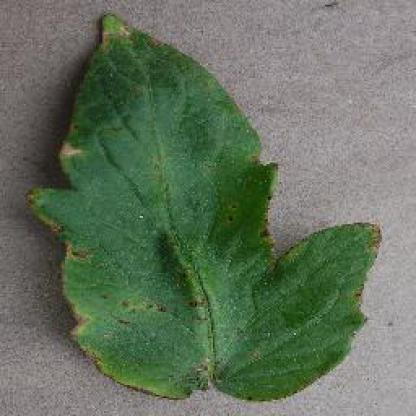bad leaf: (19, 17, 386, 401)
